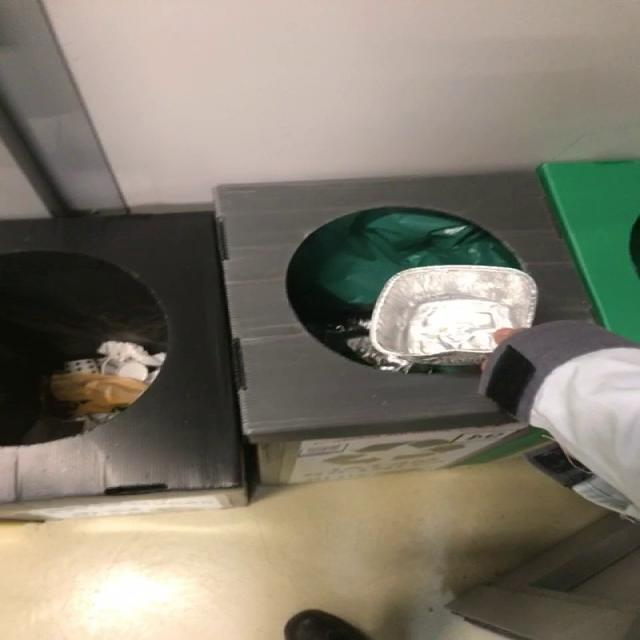bin: (0, 172, 595, 520)
metal: (369, 265, 539, 366)
